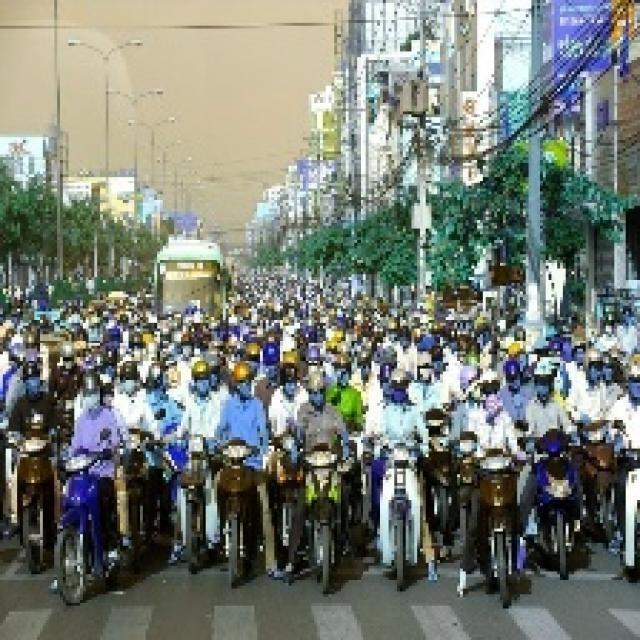Motorcycle: (470, 422, 522, 596), (532, 403, 586, 562), (57, 429, 106, 596), (212, 430, 261, 578), (300, 448, 354, 581), (382, 422, 424, 578)
